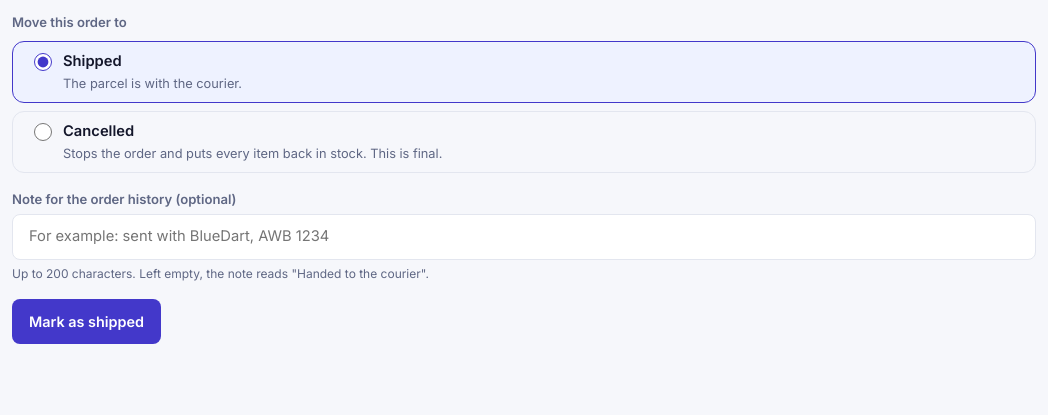
Test: OrderStatusForm › loads the order again when it changed elsewhere, and says why
Click the button "Mark as shipped" at (86,321), box [12,299,161,344]
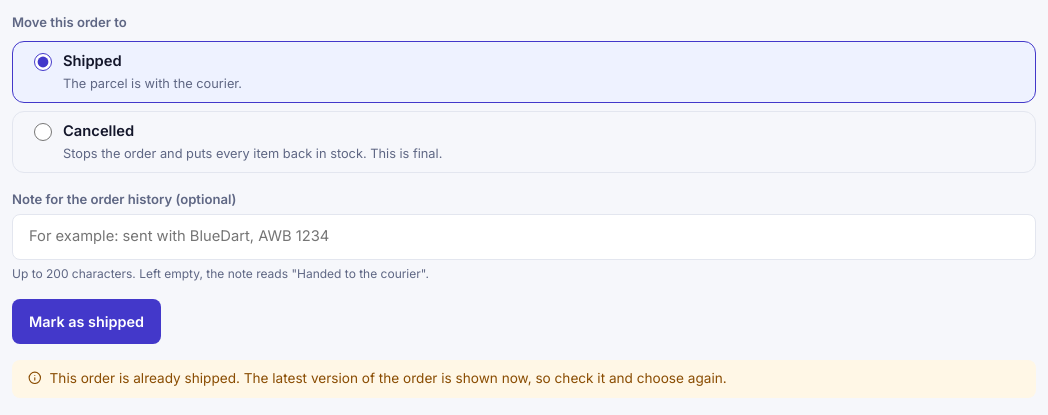
Expected: the text "This order is already shipped. The latest version of the order is shown now" is shown, [50,370,727,386]
